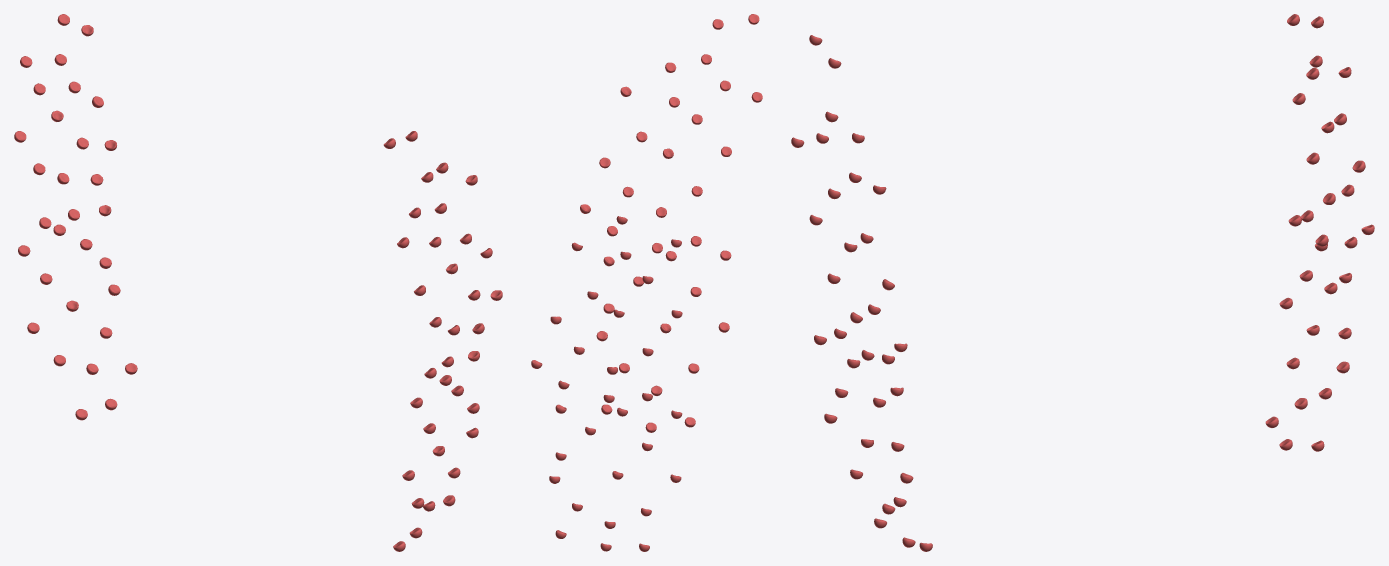
File: climbing.fbx
3 views of the same model, side by side, from view 1: azimuth 30°, elevation 25°; view 2: azimuth 150°, elevation 25°; view 3: azimuth 270°, elevation 25° (orthographic). The views are drawn at different scales.
Parts seen in each view (by area): view 1: Climbing; view 2: Climbing; view 3: Climbing.
Part boxes in pixels (<box>): Climbing: <box>14,14,502,551</box>; Climbing: <box>531,14,762,551</box>; Climbing: <box>791,14,1374,551</box>.
Bounding box in the file's own units: 18391 × 26255 × 29175.
